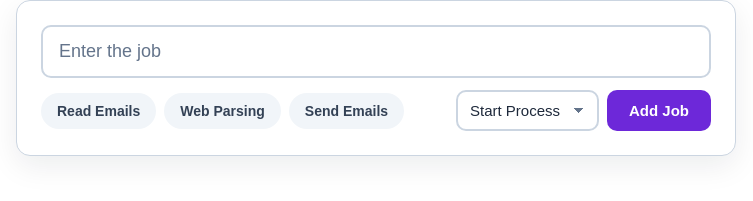
Test: will not submit an empty form
The image size is (753, 201).
Click the button "Add Job" at (659, 110), box x1=607 y1=90 x2=711 y2=131
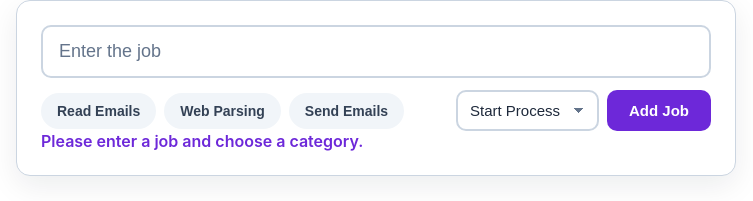
Result: the message shows "Please enter a job" at x1=41 y1=131 x2=363 y2=151
